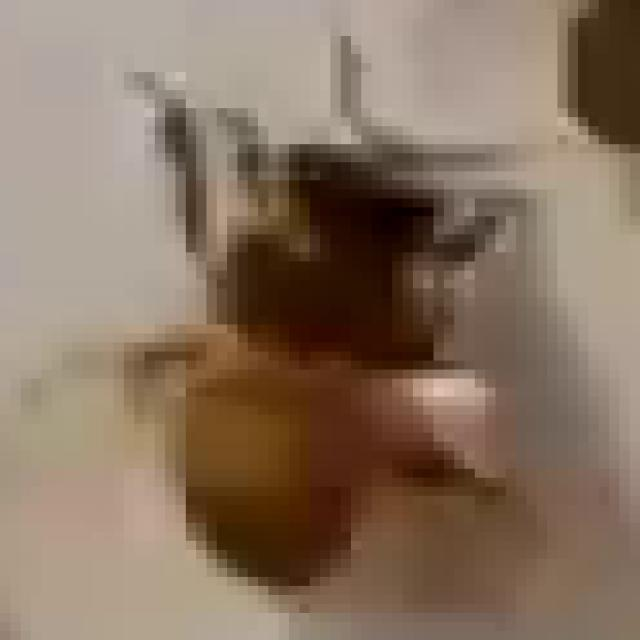honeybee: (120, 106, 541, 595)
